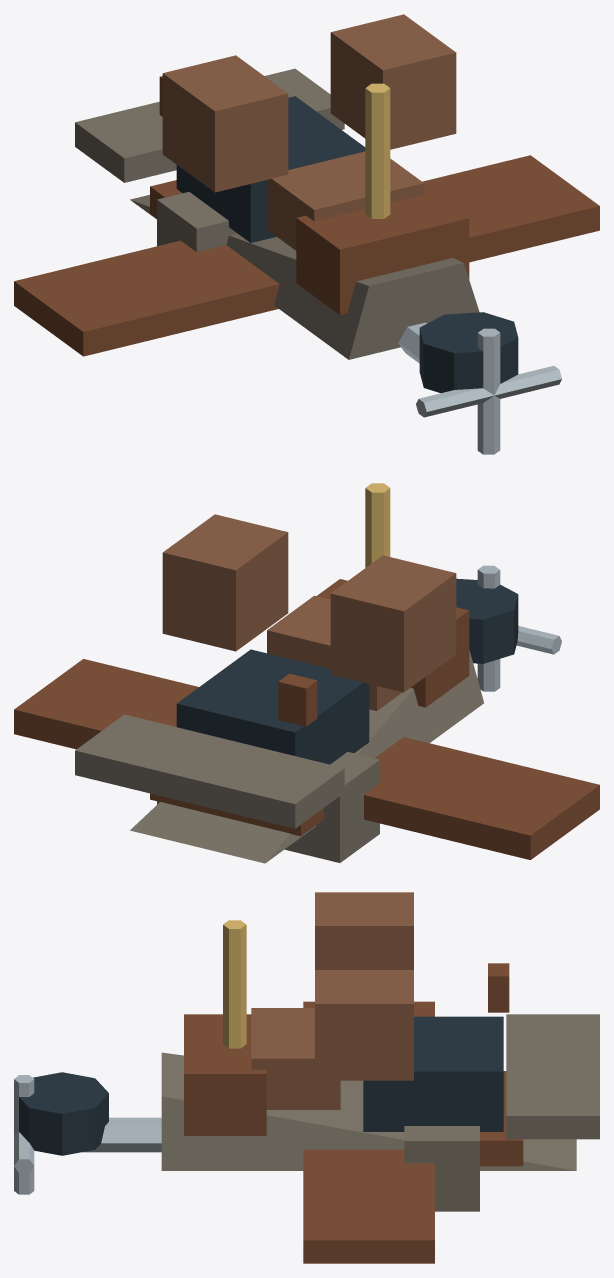
File: scout-aircraft.obj
The picture shows the model from 3 angles, top to bottom: view 1: azimuth 30°, elevation 25°; view 2: azimuth 150°, elevation 25°; view 3: azimuth 270°, elevation 25°; orthographic projection. The views are drawn at different scales.
Parts seen in each view (by area): view 1: air; view 2: air; view 3: air.
Part boxes in pixels (box(x1,y1,x2,y2)): air: box(14, 14, 599, 454); air: box(14, 483, 599, 863); air: box(14, 892, 599, 1263).
Bounding box in the file's own units: 2.4 × 1.25 × 2.49.
